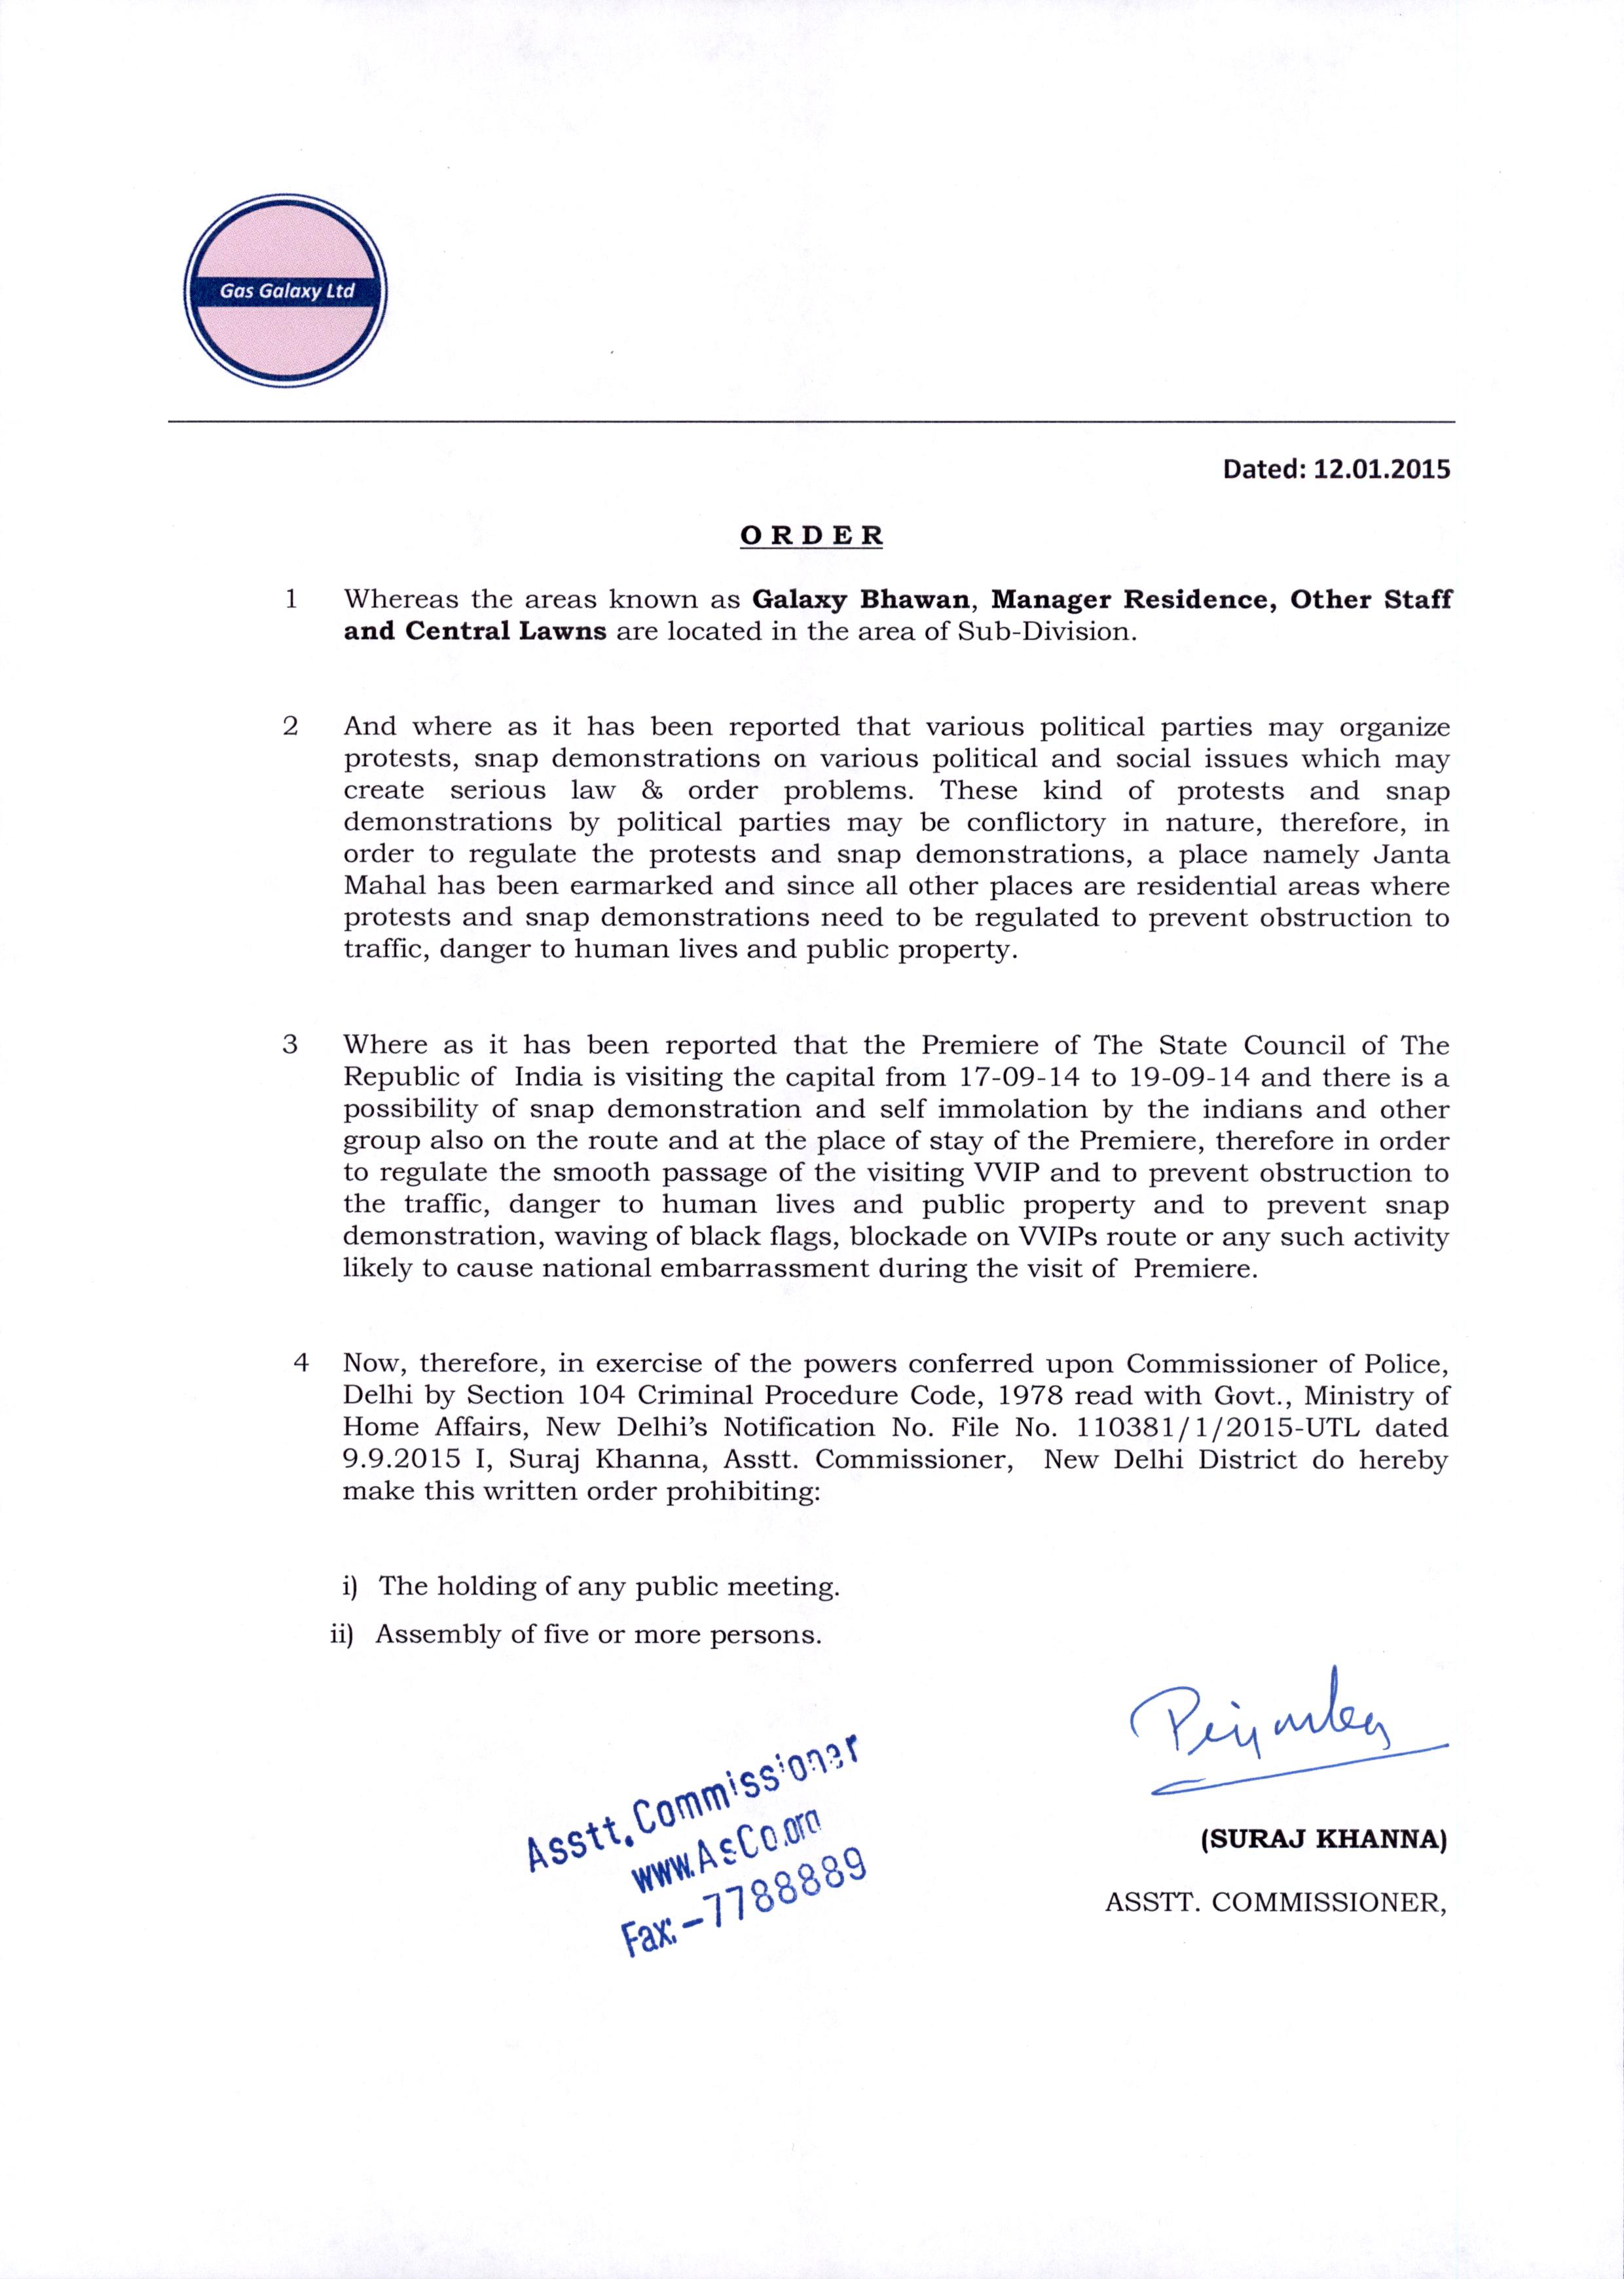Signature: (1116, 1653, 1464, 1801)
